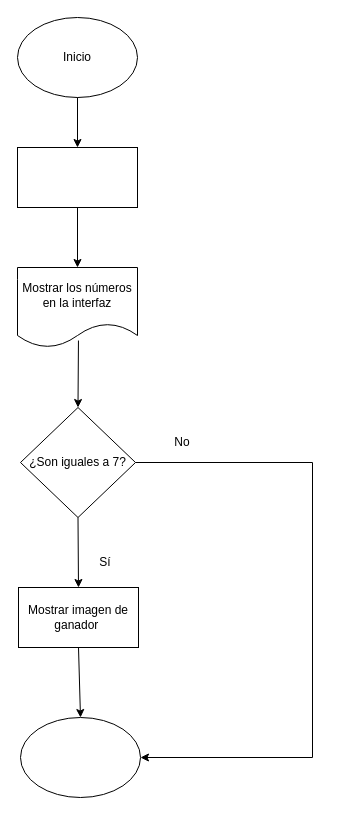
Some shapes in this 338 by 815 pixel diagram are drawn without their labels. The shapes that lost their labels are listed below. From the top down, each one's centre as x and y in pixels, then its label:
At point 77,177: "Generar 3 numeros aleatorios".
At point 80,757: "Fin".
